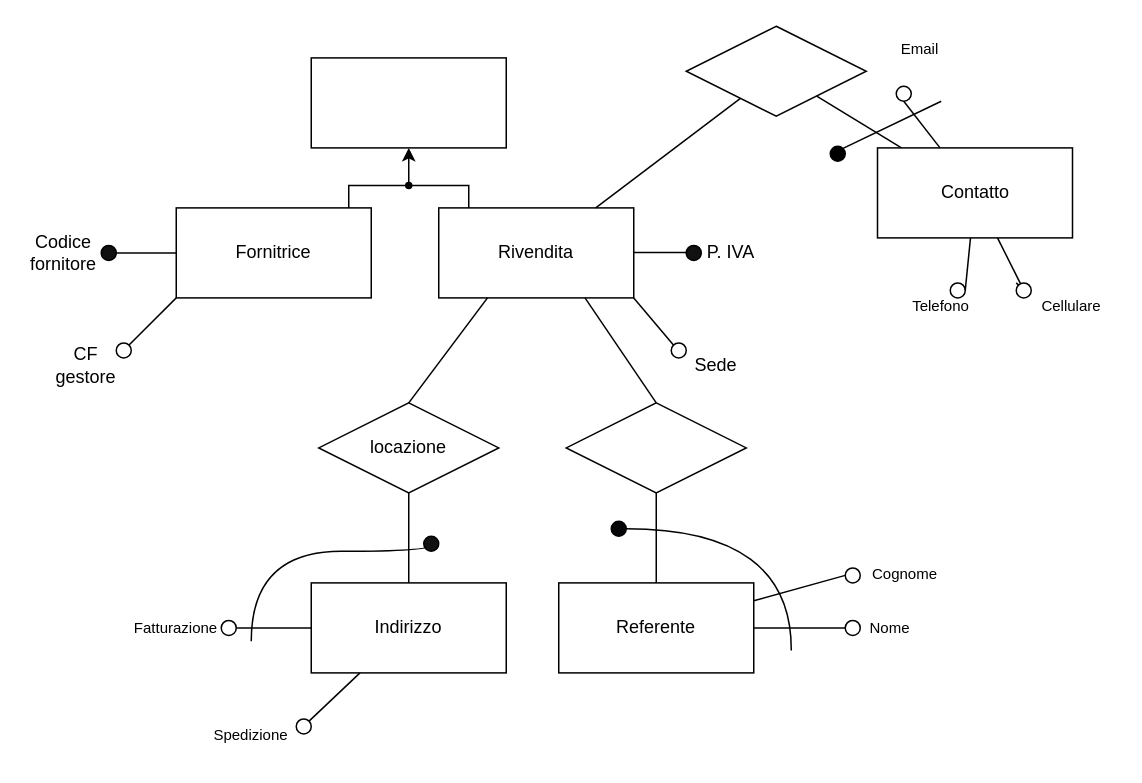
The diagram is 1142 pixels wide and 783 high, and some of its shapes have lost their labels. Each missing label, with the centre of its shape:
"Azienda" belongs at (x=408, y=102).
"Recapito" belongs at (x=775, y=70).
"riferimento" belongs at (x=655, y=447).
